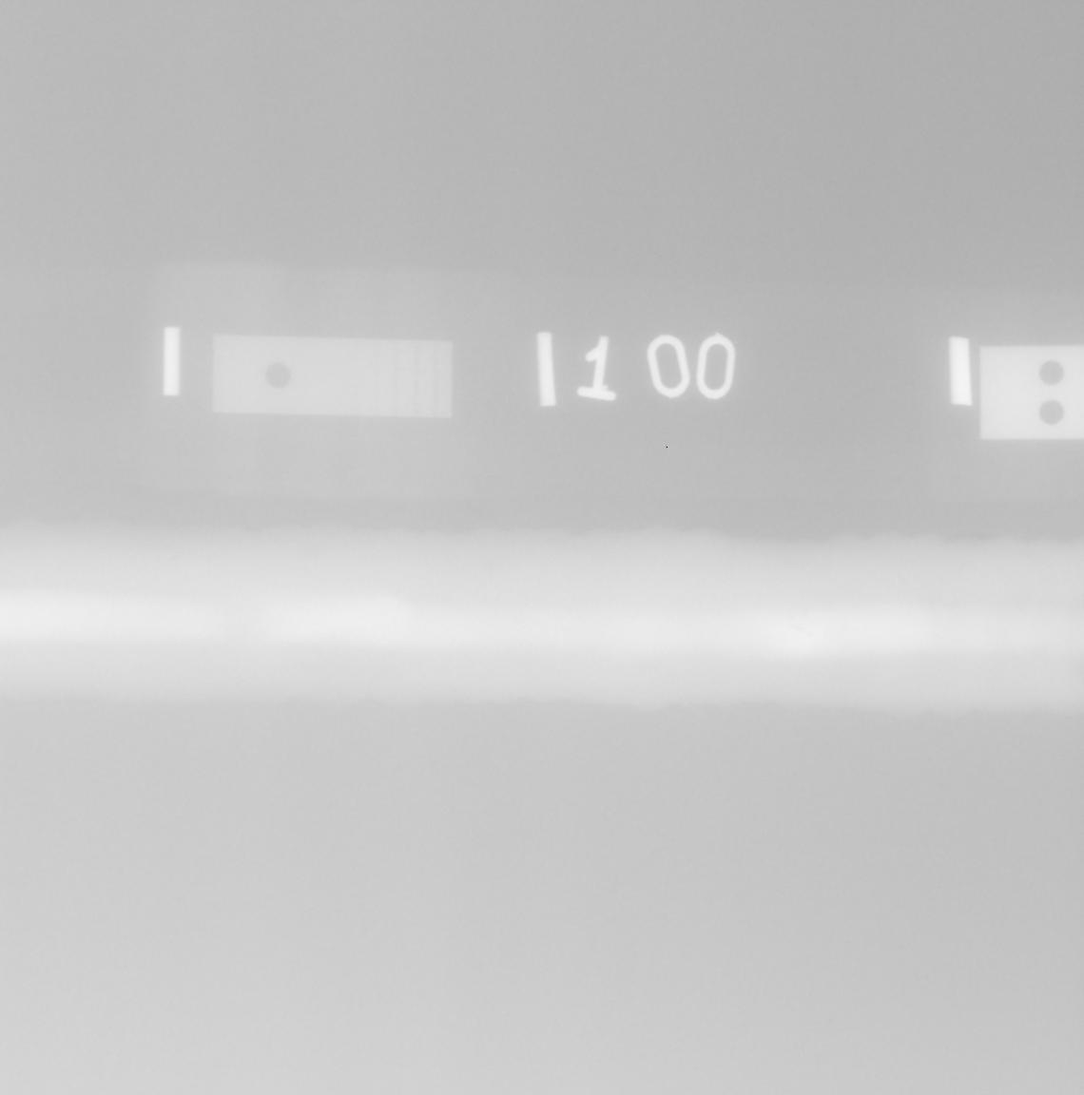Pore/Porosity: (305, 544, 321, 559), (785, 614, 794, 621), (807, 632, 815, 637), (801, 613, 809, 617), (788, 624, 796, 628), (797, 626, 803, 631), (814, 620, 817, 623)
Reference Standard 1: (213, 334, 452, 419)
